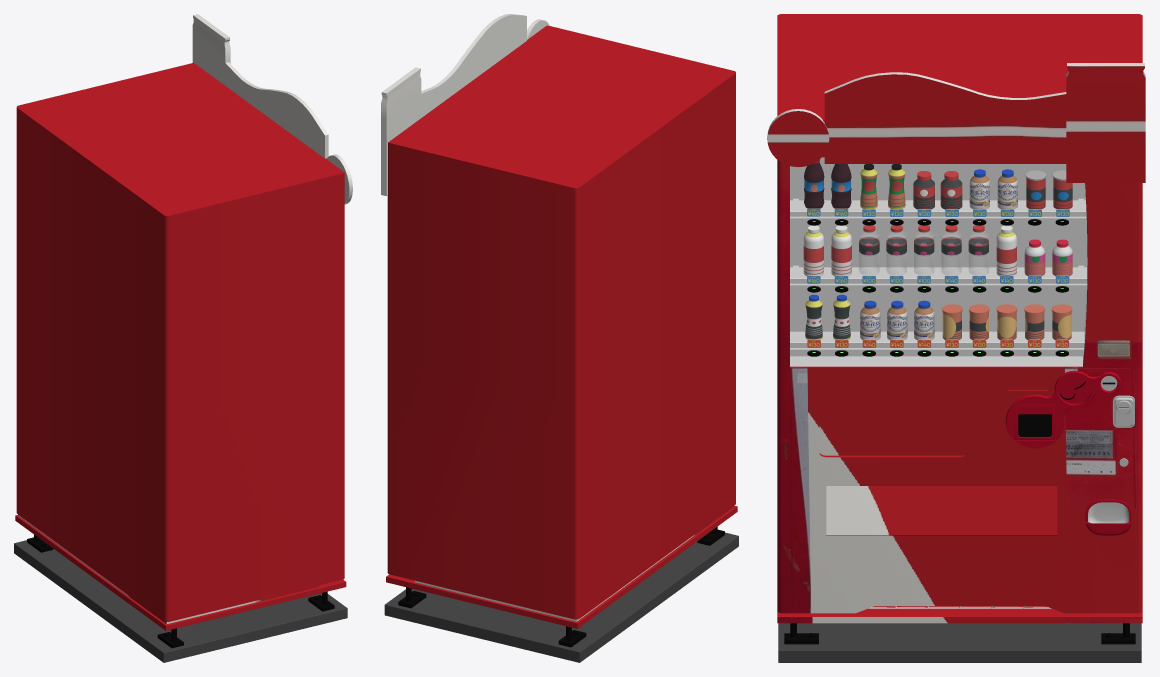
File: red_japanese_vending_machine_clean.glb
3 views of the same model, side by side, from view 1: azimuth 30°, elevation 25°; view 2: azimuth 150°, elevation 25°; view 3: azimuth 270°, elevation 25° (orthographic). The views are drawn at different scales.
Parts seen in each view (by area): view 1: Object_30, Object_16, Object_22, Object_18; view 2: Object_30, Object_16, Object_22, Object_18; view 3: Object_30, Object_20, Object_35, Object_22, Object_16, Object_21, Object_32, Object_24, Object_11, Object_36, Object_26, Object_25 (+13 smaller).
Boxes of the visible parts, x1,y1,x2,y2 form: Object_30: (15, 63, 352, 630); Object_16: (14, 540, 347, 662); Object_22: (192, 14, 328, 158); Object_18: (27, 534, 334, 648); Object_30: (386, 19, 737, 628); Object_16: (384, 532, 738, 662); Object_22: (381, 14, 526, 195); Object_18: (398, 526, 724, 647); Object_30: (767, 14, 1142, 623); Object_20: (790, 158, 1086, 365); Object_35: (790, 157, 1087, 366); Object_22: (824, 63, 1145, 182); Object_16: (778, 623, 1141, 662); Object_21: (819, 380, 967, 455); Object_32: (790, 159, 1131, 535); Object_24: (942, 304, 1072, 340); Object_11: (859, 231, 988, 275); Object_36: (807, 209, 1069, 347); Object_26: (860, 179, 1017, 340); Object_25: (803, 225, 1016, 276).
Bounding box in the file's own units: 0.8677 × 2.2 × 1.26.
Materials: 34 (14 with a texture image).
